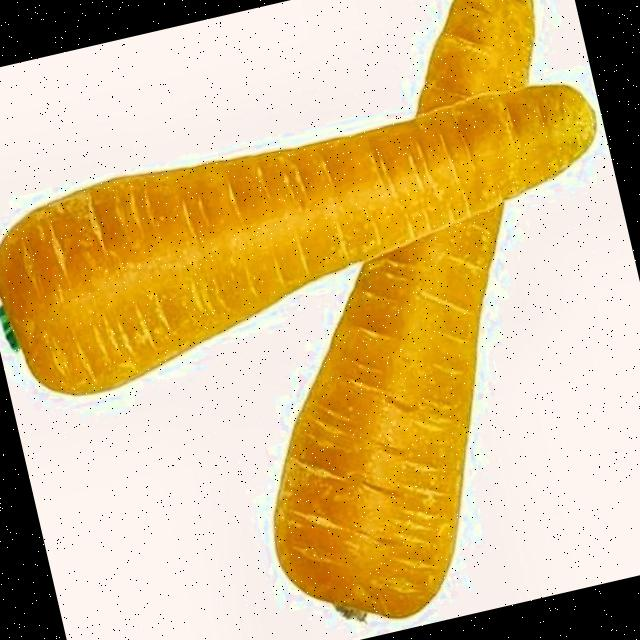carrot: (0, 86, 593, 393), (274, 0, 534, 617)
